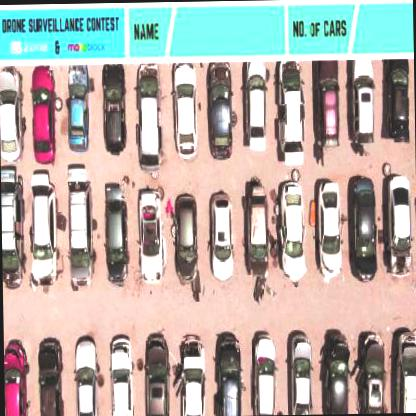car: (66, 162, 94, 286), (346, 173, 378, 280), (382, 162, 411, 276), (274, 60, 304, 162), (29, 171, 56, 283), (277, 178, 304, 282), (102, 180, 128, 284), (170, 191, 198, 283), (30, 65, 56, 164), (206, 61, 232, 159), (136, 186, 162, 284), (0, 171, 21, 290), (214, 332, 244, 414), (286, 332, 316, 414), (136, 64, 160, 165), (176, 336, 206, 416), (312, 59, 339, 146), (73, 335, 102, 415), (172, 62, 196, 158), (142, 333, 170, 415), (35, 339, 65, 415), (245, 183, 270, 274), (249, 331, 276, 414), (101, 63, 125, 154), (389, 329, 415, 412), (0, 68, 23, 161), (360, 330, 386, 412), (108, 334, 134, 415), (322, 332, 348, 413), (3, 338, 30, 415), (318, 180, 340, 274), (244, 61, 267, 150), (210, 190, 232, 281), (350, 58, 374, 140), (384, 58, 408, 140), (68, 65, 90, 151)
